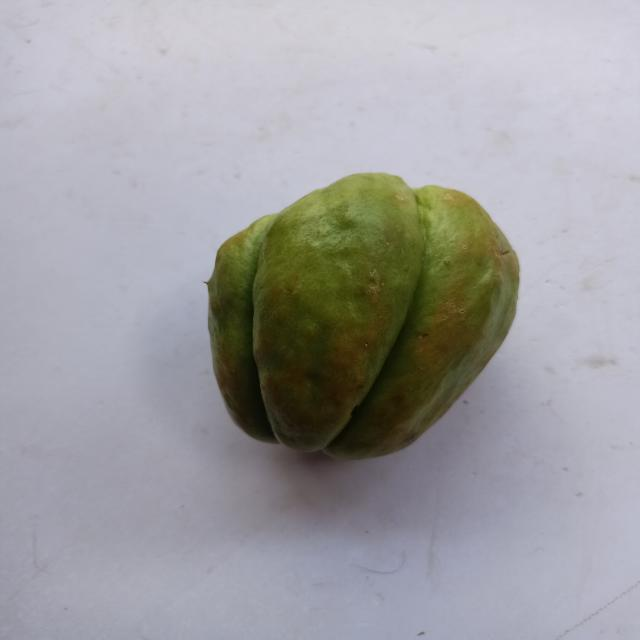Chayote: (182, 155, 532, 496)
